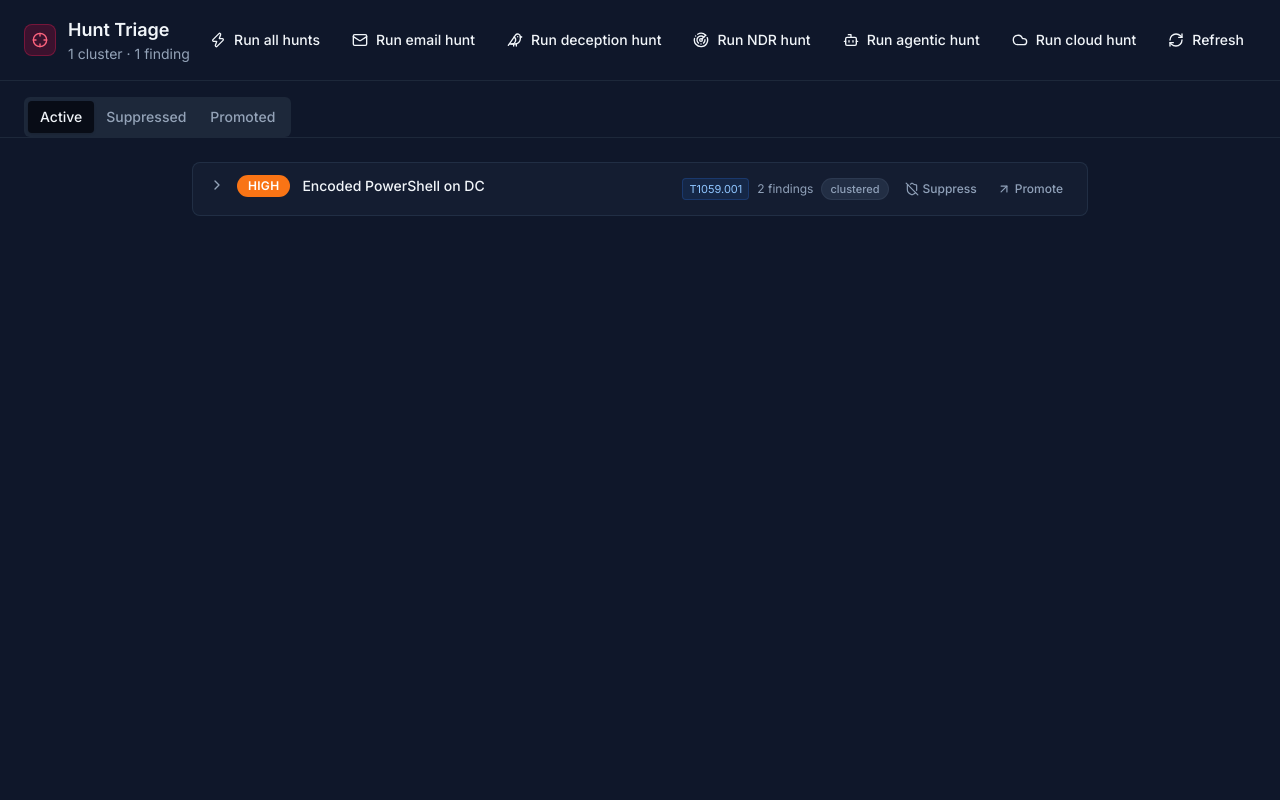
Scenario: HuntTriagePage › promote modal shows investigation link on success
Expected: the element with test id "hunt-cluster-card" is shown, [192,162,1088,216]
// Click Promote on the cluster
Step 1. Click the button with test id "hunt-cluster-promote" → (1030, 189), box [989,175,1071,203]
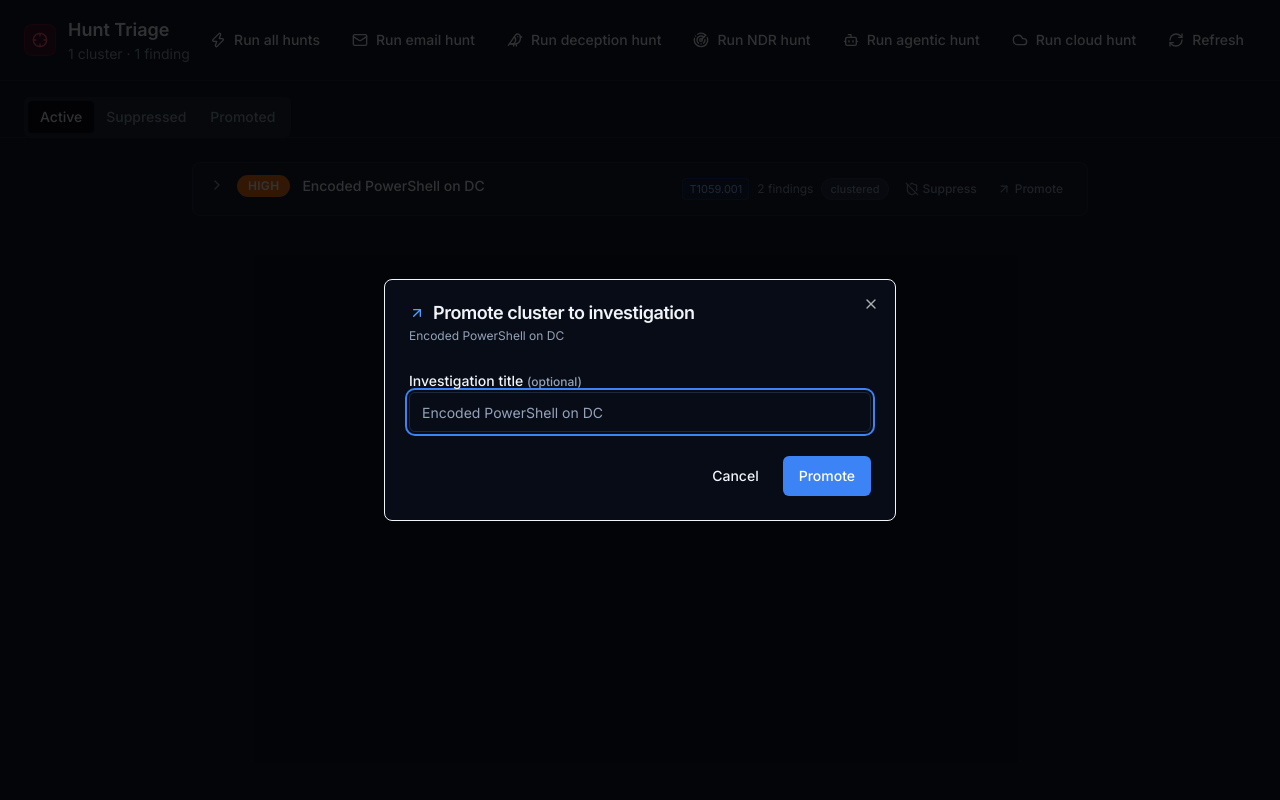
Expected: the dialog with test id "hunt-promote-modal" is shown, [384,279,896,521]
Step 2. Click the button with test id "hunt-promote-submit" → (827, 476), box [783,456,871,496]
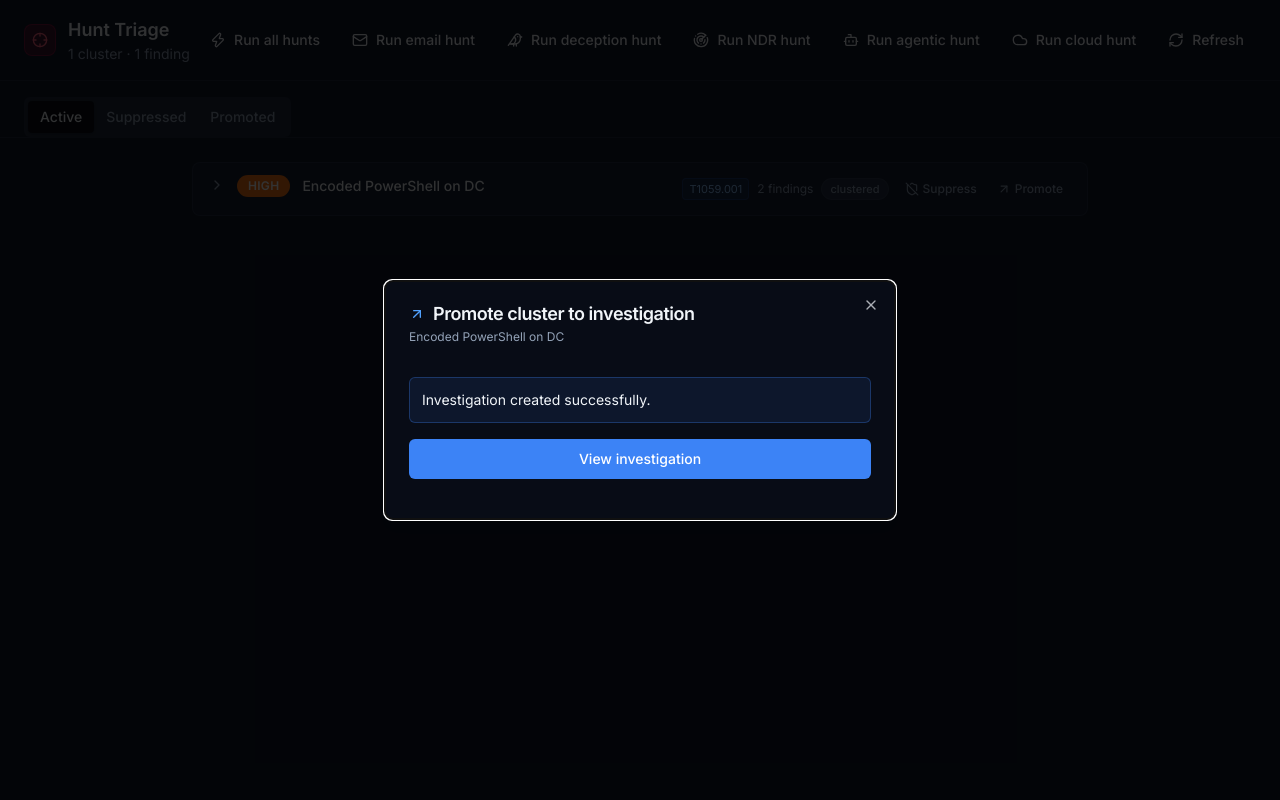
Expected: the link with test id "hunt-promote-investigation-link" is shown, [409,439,871,479]
